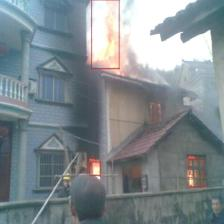fire: (91, 0, 119, 69), (188, 159, 204, 187), (89, 161, 101, 176)
